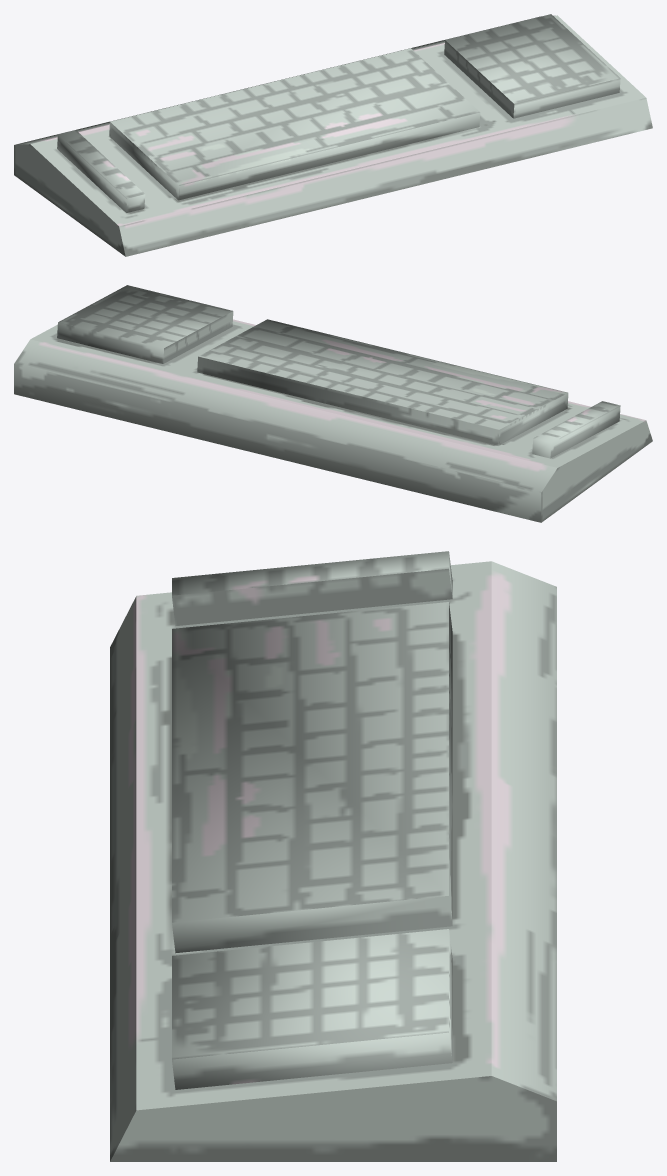
The model's file is Keyboard_1.glb.
3 views of the same model, one above another, from view 1: azimuth 30°, elevation 25°; view 2: azimuth 150°, elevation 25°; view 3: azimuth 270°, elevation 25° (orthographic). The views are drawn at different scales.
Parts seen in each view (by area): view 1: Keyboard_1; view 2: Keyboard_1; view 3: Keyboard_1.
Boxes of the visible parts, bbox=[...] form: Keyboard_1: bbox=[14, 14, 652, 256]; Keyboard_1: bbox=[14, 285, 652, 522]; Keyboard_1: bbox=[110, 551, 556, 1161].
Bounding box in the file's own units: 0.6505 × 0.0664 × 0.2387.
1 material, 1 textured.
